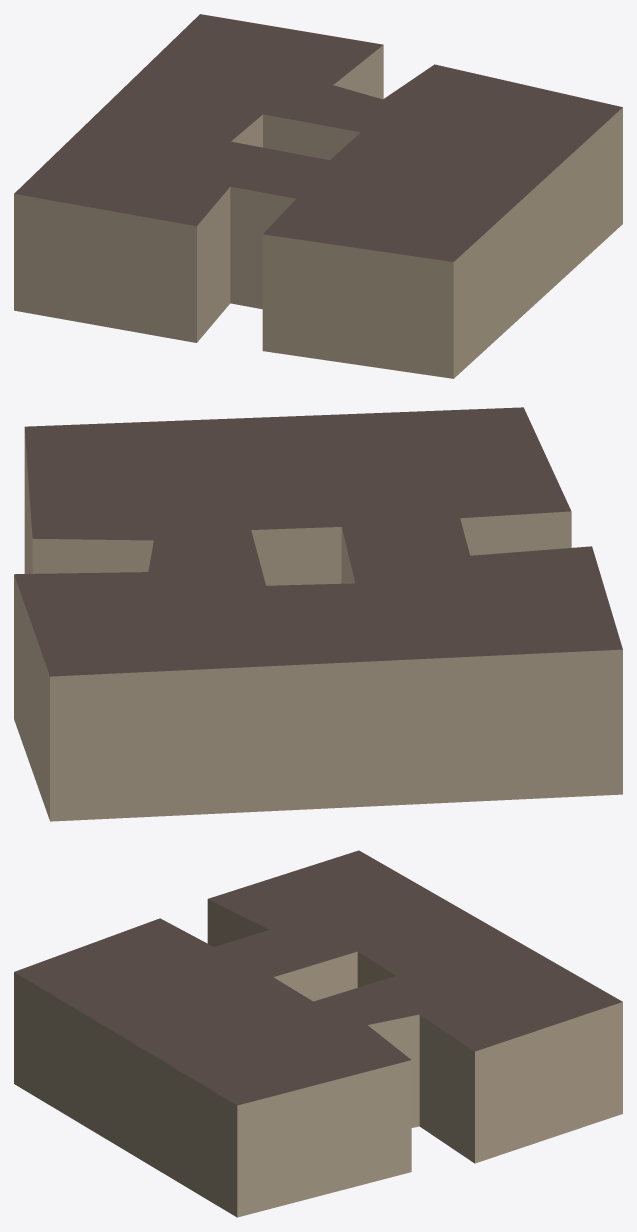
The picture shows the model from 3 angles, top to bottom: view 1: azimuth 30°, elevation 25°; view 2: azimuth 150°, elevation 25°; view 3: azimuth 270°, elevation 25°; orthographic projection. The views are drawn at different scales.
Parts seen in each view (by area): view 1: HP-r20702162; view 2: HP-r20702162; view 3: HP-r20702162.
Part boxes in pixels (x1=…): HP-r20702162: x1=14, y1=14, x2=622, y2=378; HP-r20702162: x1=14, y1=407, x2=622, y2=821; HP-r20702162: x1=14, y1=850, x2=622, y2=1217.
Bounding box in the file's own units: 43.98 × 9 × 44.35.
